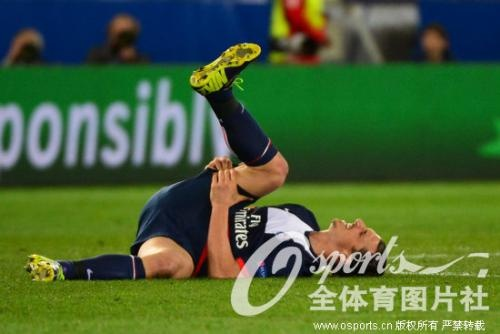falling: (16, 27, 413, 295)
